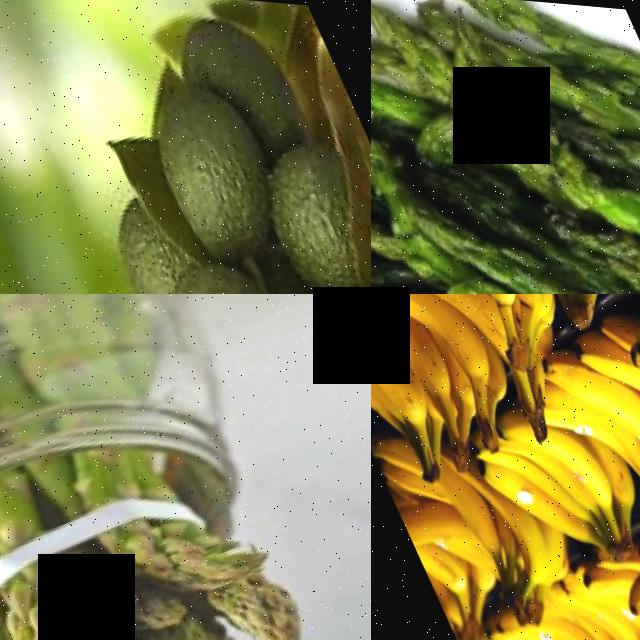asparagus: (106, 487, 238, 611), (210, 550, 322, 640), (0, 562, 107, 640)
avocado: (127, 46, 303, 273), (159, 0, 338, 190), (233, 98, 371, 294), (87, 175, 223, 294), (136, 231, 345, 294)
banana: (476, 387, 635, 576), (426, 437, 571, 626), (371, 294, 509, 458), (559, 298, 640, 533), (505, 560, 640, 640)
